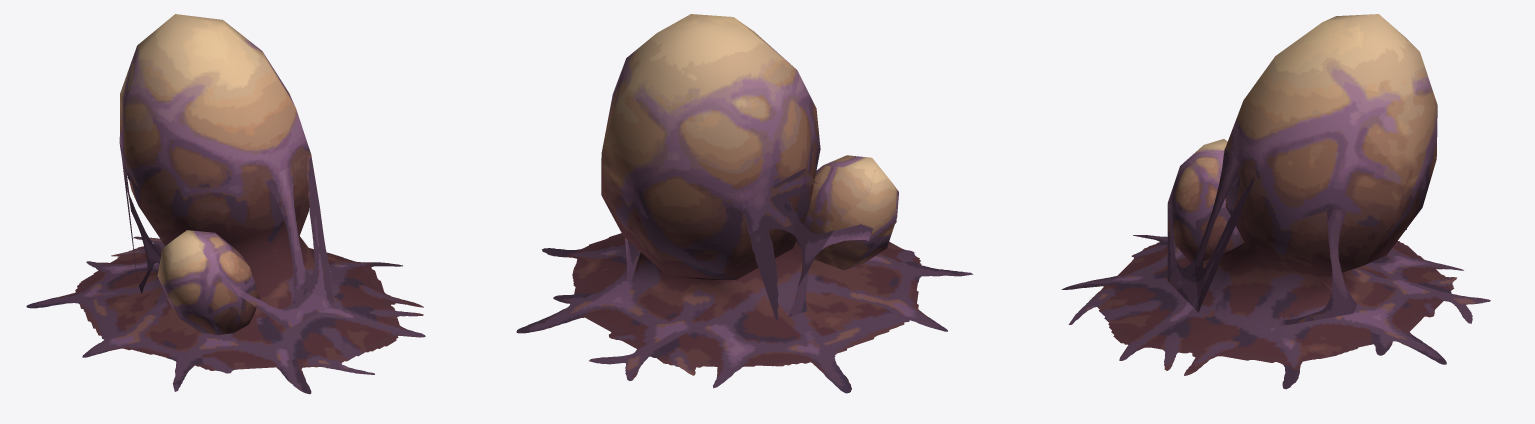
File: desert_flyer_egg_01_c9d35c63.glb
3 renders of one model, left to right at view 1: azimuth 30°, elevation 25°; view 2: azimuth 150°, elevation 25°; view 3: azimuth 270°, elevation 25°, orthographic. The views are drawn at different scales.
Bounding box in the file's own units: 3.19 × 2.06 × 3.19.
1 material, 1 textured.
